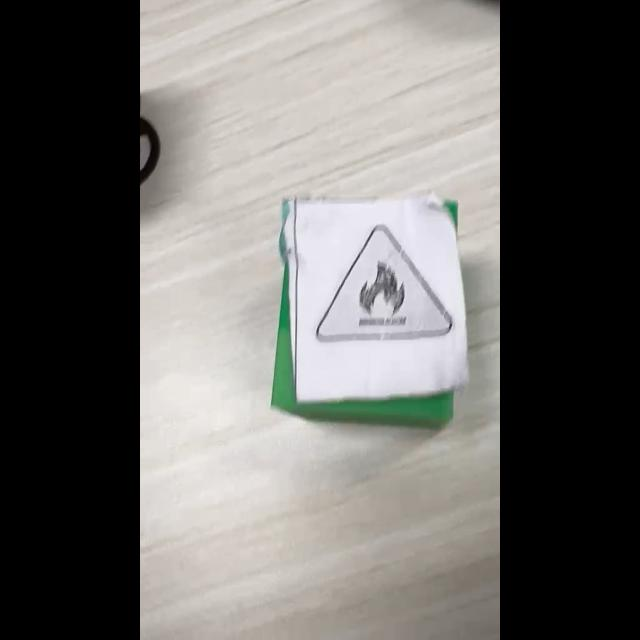Fire: (316, 226, 454, 342)
